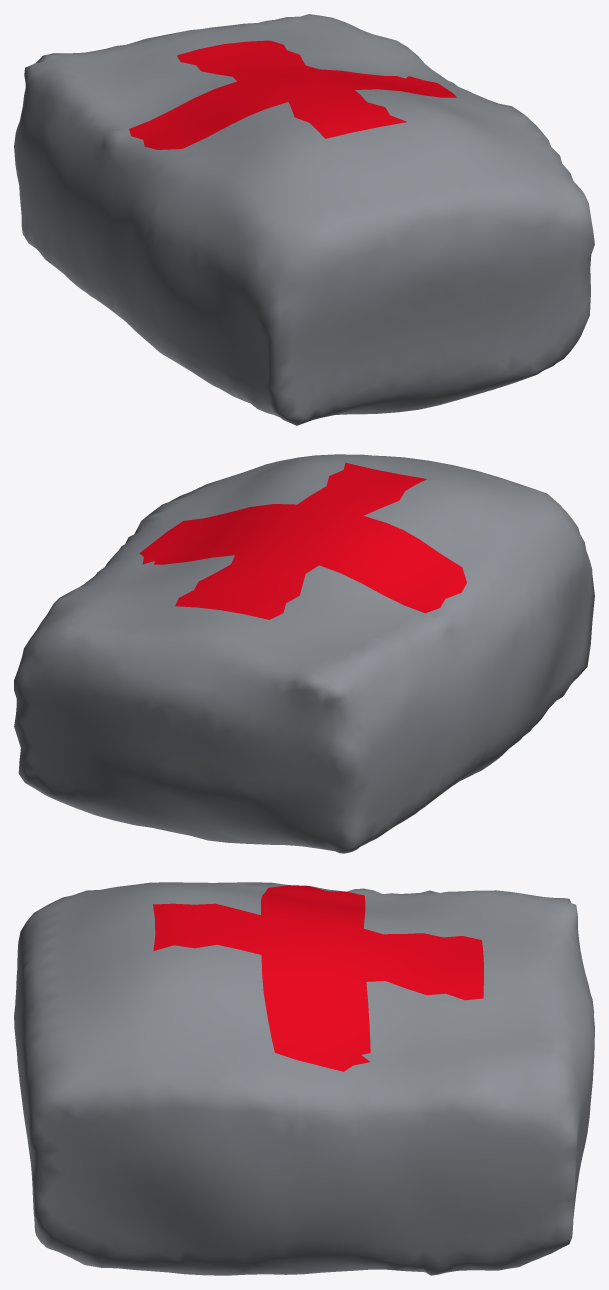
File: Meds.fbx
3 renders of one model, top to bottom at view 1: azimuth 30°, elevation 25°; view 2: azimuth 150°, elevation 25°; view 3: azimuth 270°, elevation 25°, orthographic. The views are drawn at different scales.
Visible parts, largest first — view 1: Cube; view 2: Cube; view 3: Cube.
Boxes of the visible parts, x1=… form: Cube: x1=14, y1=14, x2=594, y2=425; Cube: x1=14, y1=454, x2=594, y2=853; Cube: x1=14, y1=882, x2=594, y2=1275.
Bounding box in the file's own units: 261 × 183 × 316.
